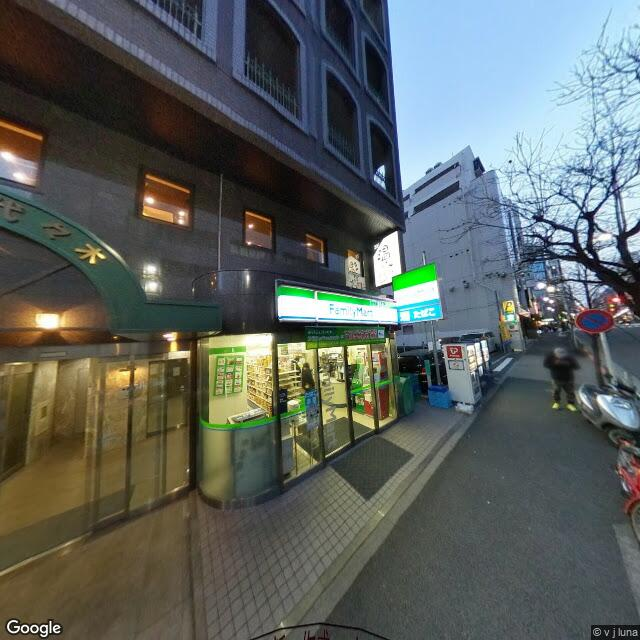family_mart: (275, 282, 399, 330), (390, 260, 437, 310)
